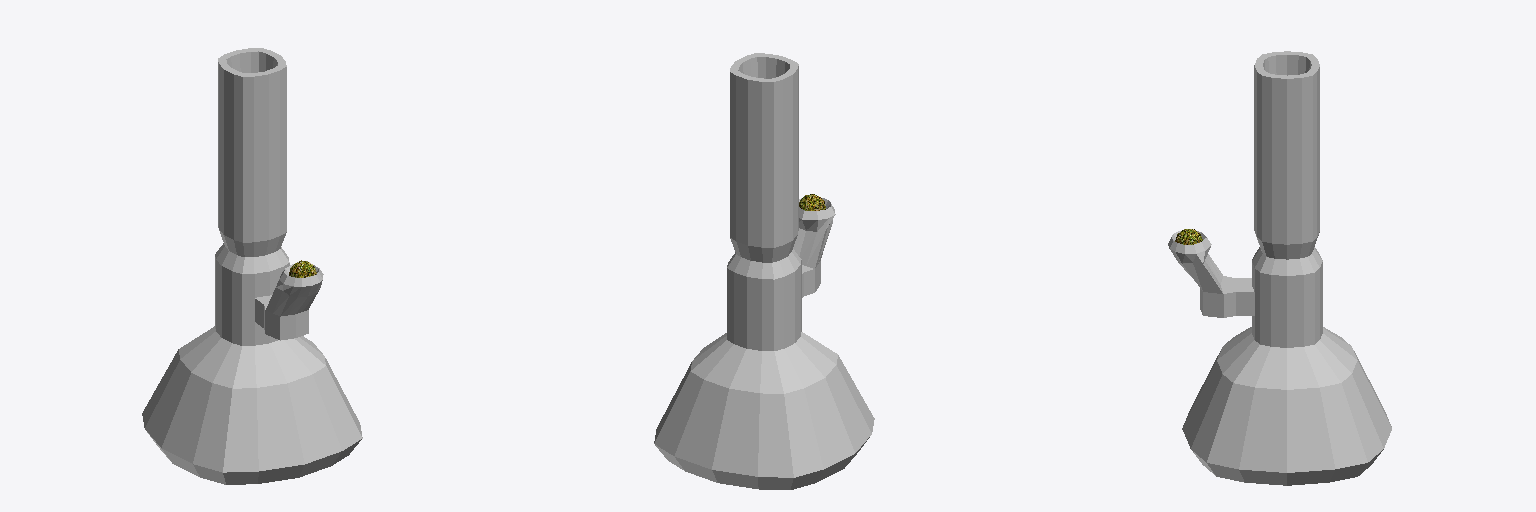
3 renders of one model, left to right at view 1: azimuth 30°, elevation 25°; view 2: azimuth 150°, elevation 25°; view 3: azimuth 270°, elevation 25°, orthographic.
Visible parts, largest first — view 1: Cube; view 2: Cube; view 3: Cube.
Boxes of the visible parts, x1=… form: Cube: x1=142, y1=48, x2=362, y2=484; Cube: x1=654, y1=53, x2=874, y2=489; Cube: x1=1168, y1=51, x2=1391, y2=485.
Size of the model in its own units: 3.11 by 6.23 by 3.32.
2 materials, 1 textured.